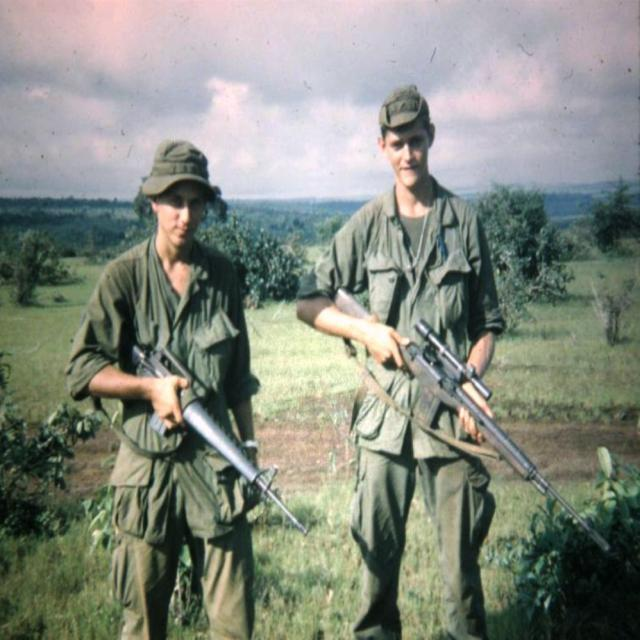Rifle: (127, 341, 310, 538)
